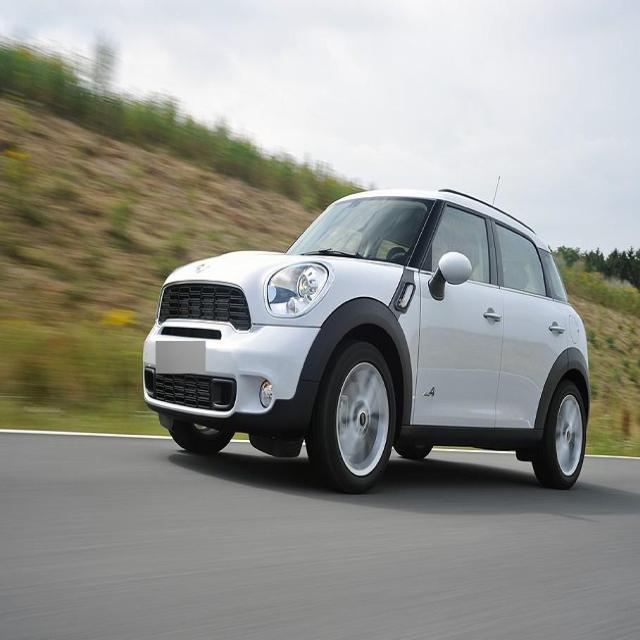door: (488, 204, 565, 429)
front_bumper: (142, 320, 331, 435)
front_glass: (285, 196, 432, 267)
front_left_side_door: (410, 197, 505, 435)
front_left_side_light: (264, 260, 330, 318)
front_left_side_mirror: (434, 250, 472, 288)
wheel: (308, 342, 396, 489), (537, 381, 587, 487)
